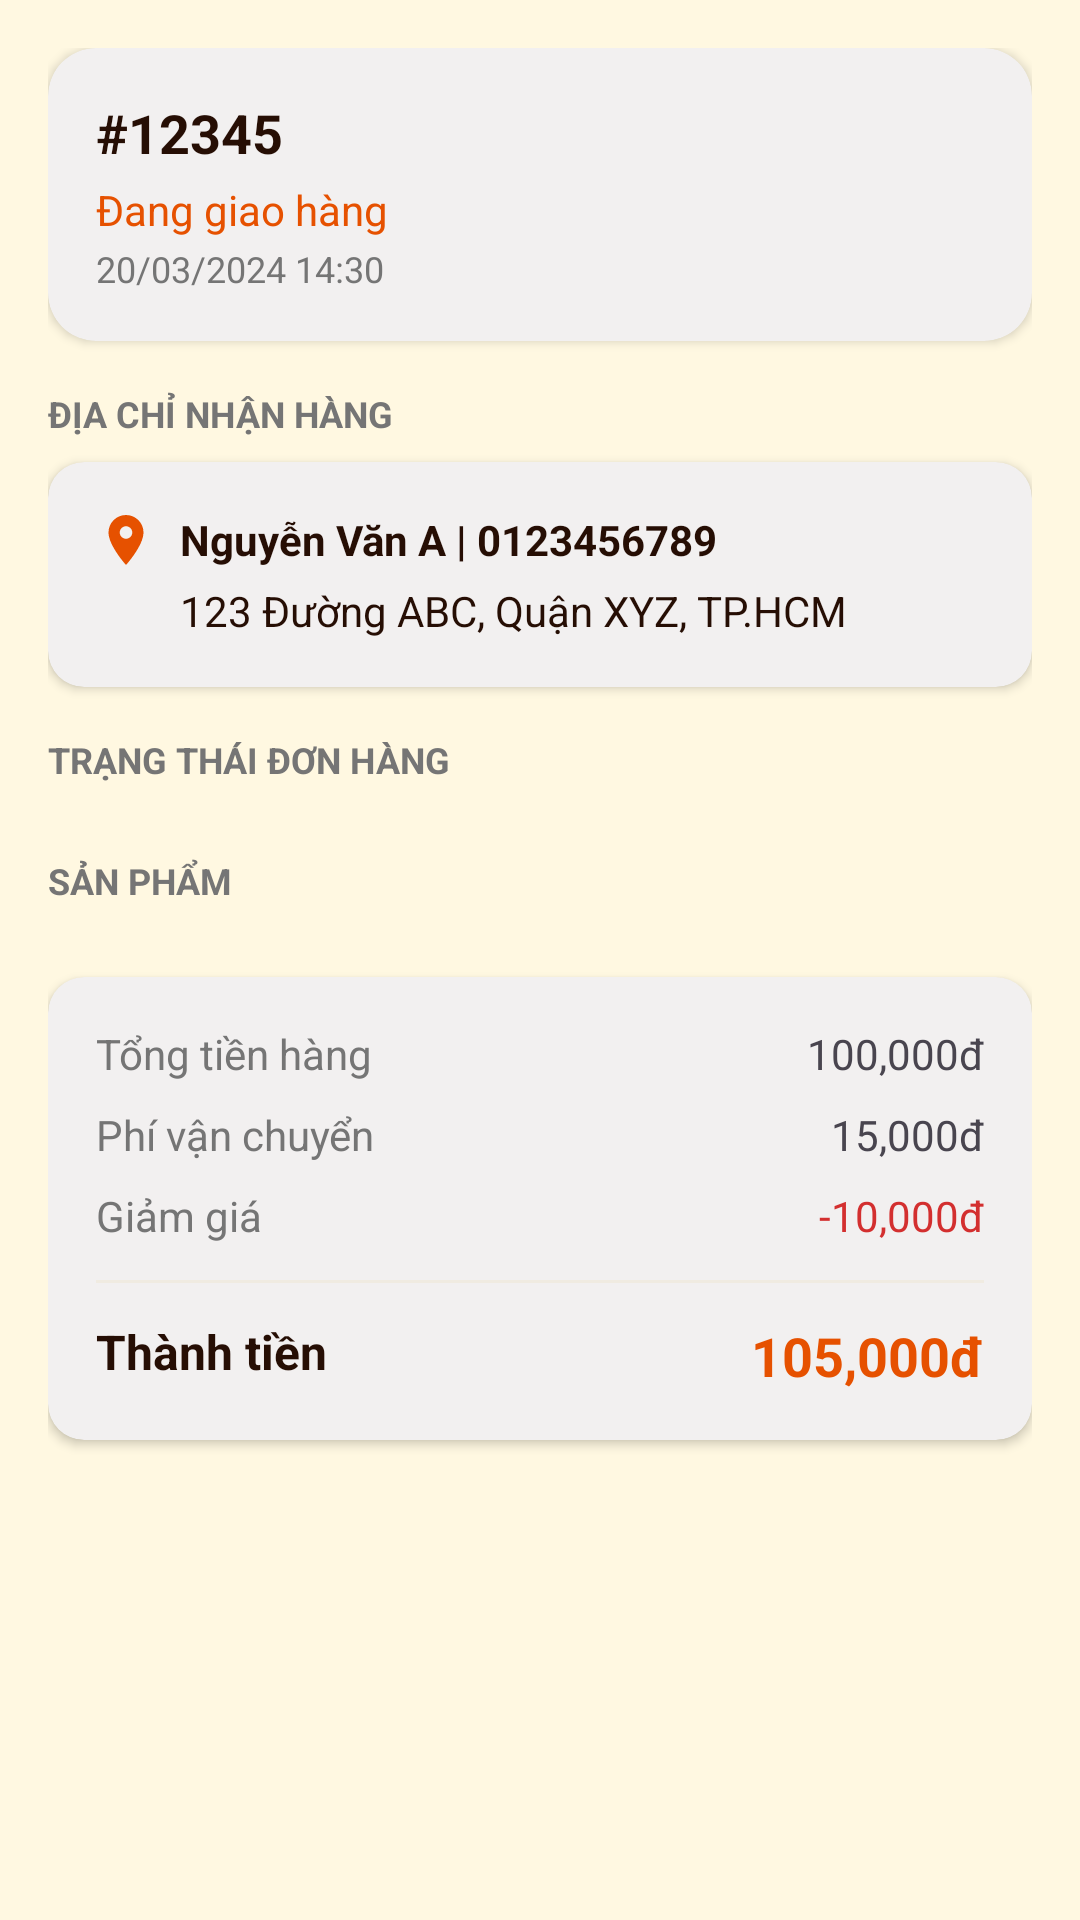

Screen size 1080x1920. Icon name, then its box in pixels as BBox(x1, y1, x2, y2):
location: BBox(108, 515, 144, 565)
